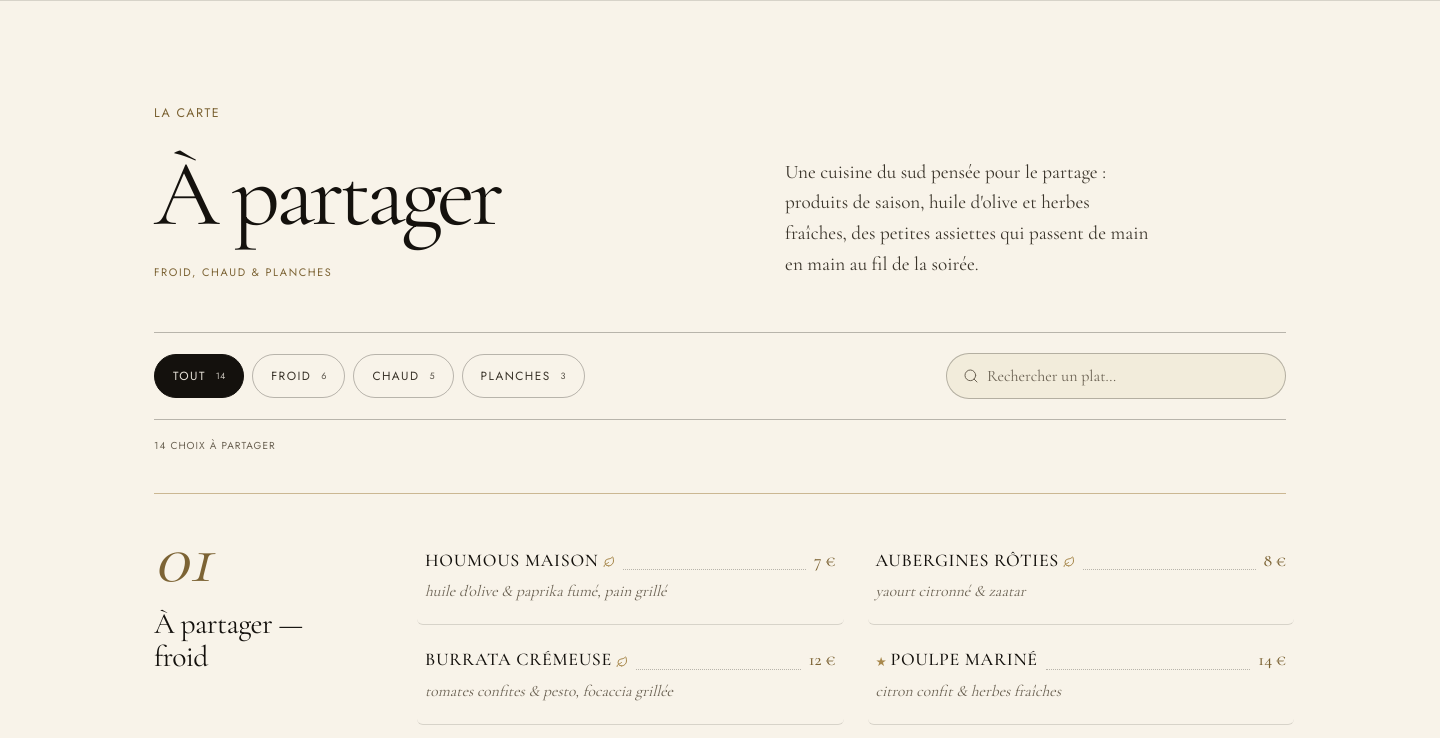
it: CarteSection › réinitialise aussi la catégorie après une recherche sans résultat
This screenshot has width=1440, height=738.
Click the button "Chaud 5" at (404,376), box [354,354,454,398]
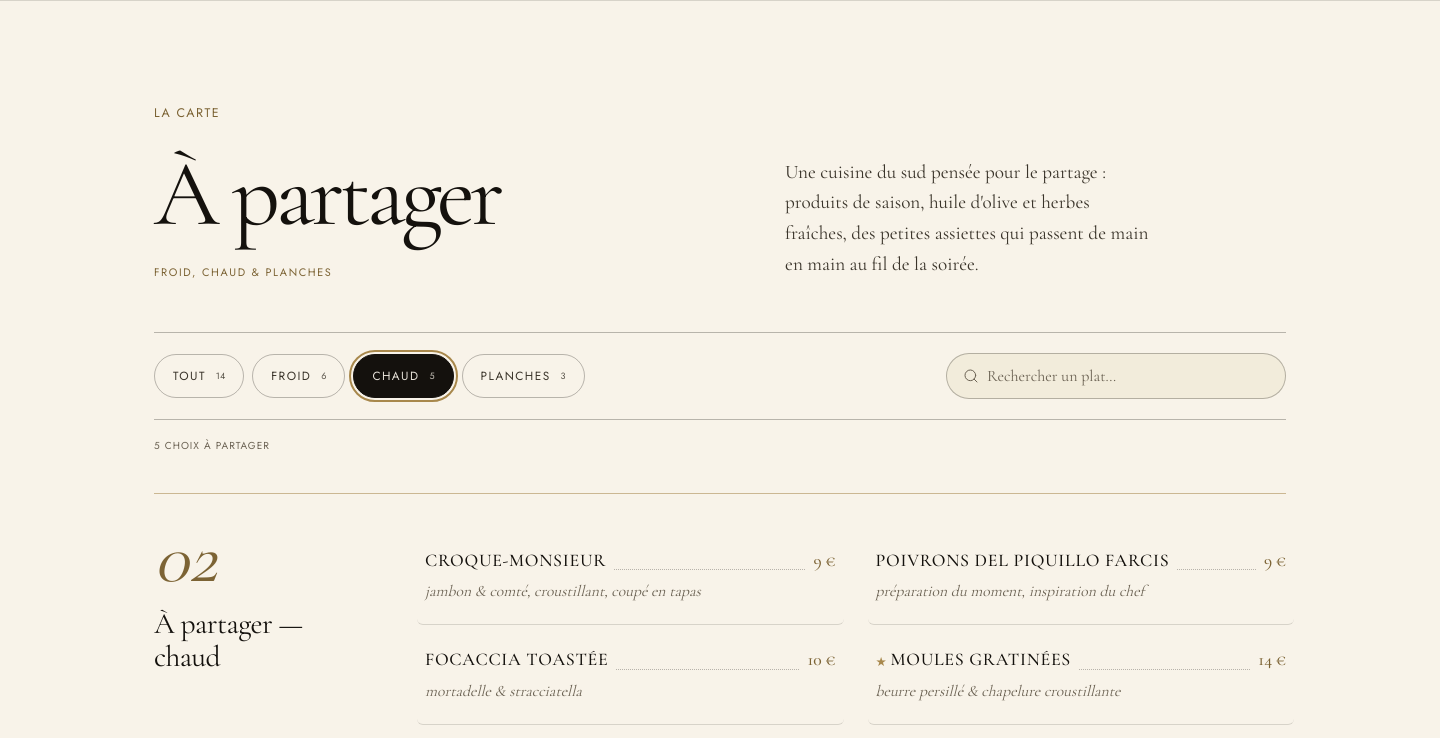
Type "houmous" into the search field at (1136,376), box [987,354,1285,398]
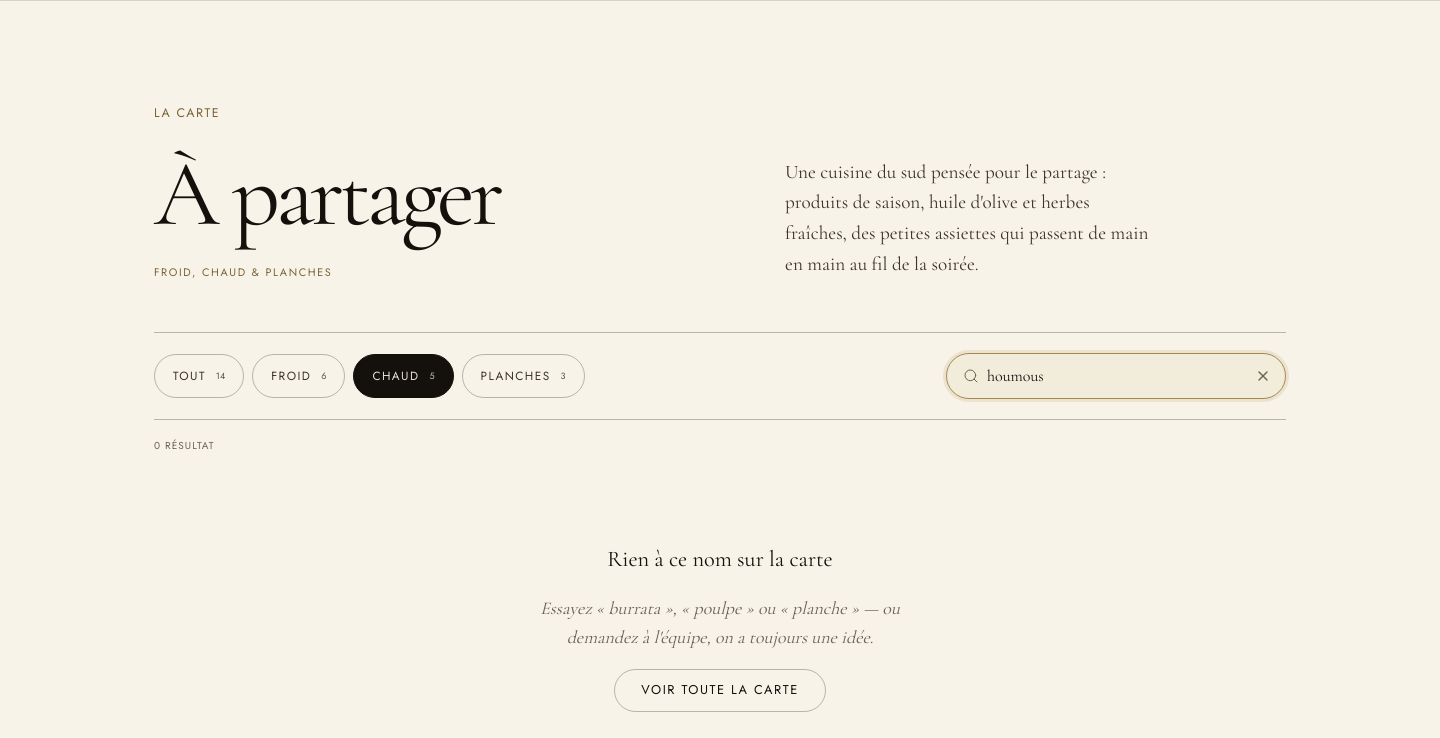
expect the heading "Houmous maison" is not shown: met
Click the button "Voir toute la carte" at (720,690), box [614,669,826,712]
(page scrolled)
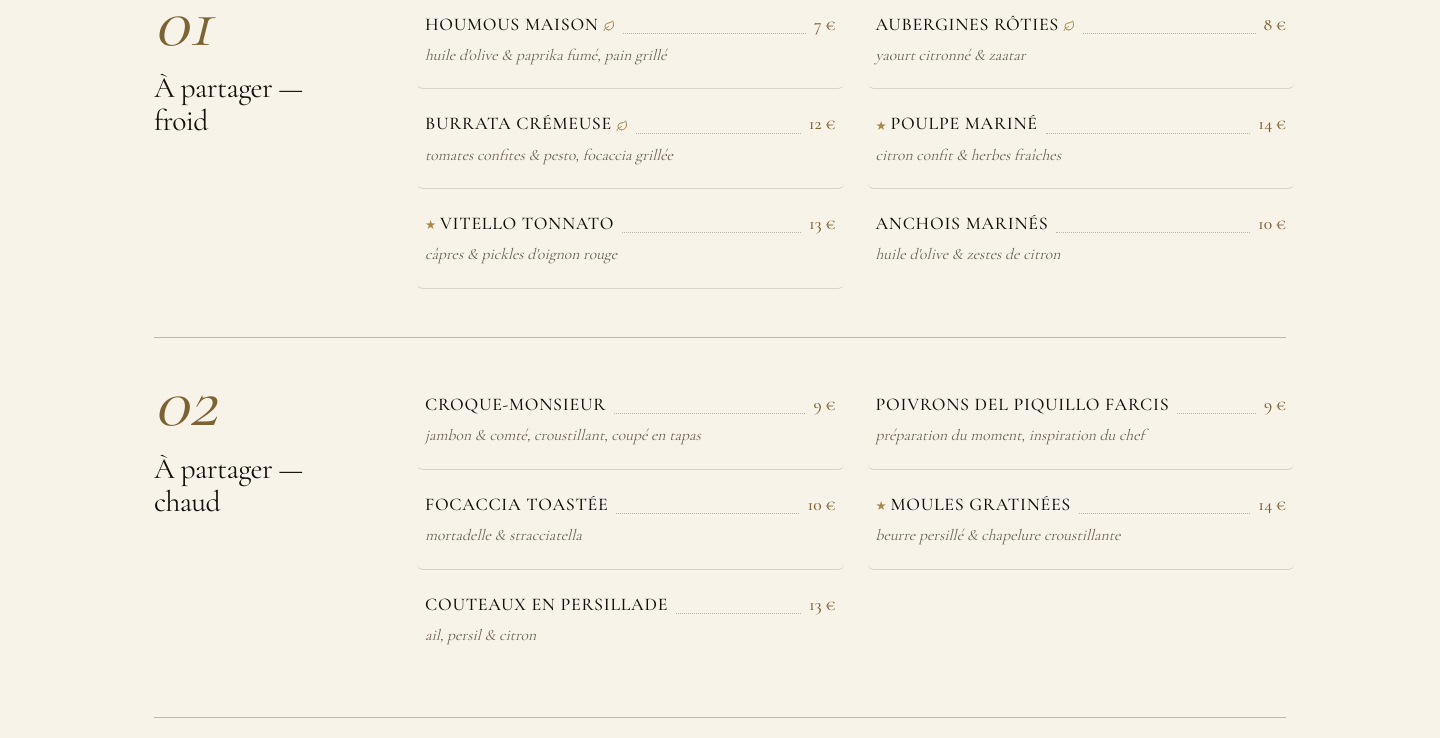
expect the heading "Houmous maison" is shown: met, box [425,14,615,35]
expect the heading "Croque-monsieur" is shown: met, box [425,394,606,416]
